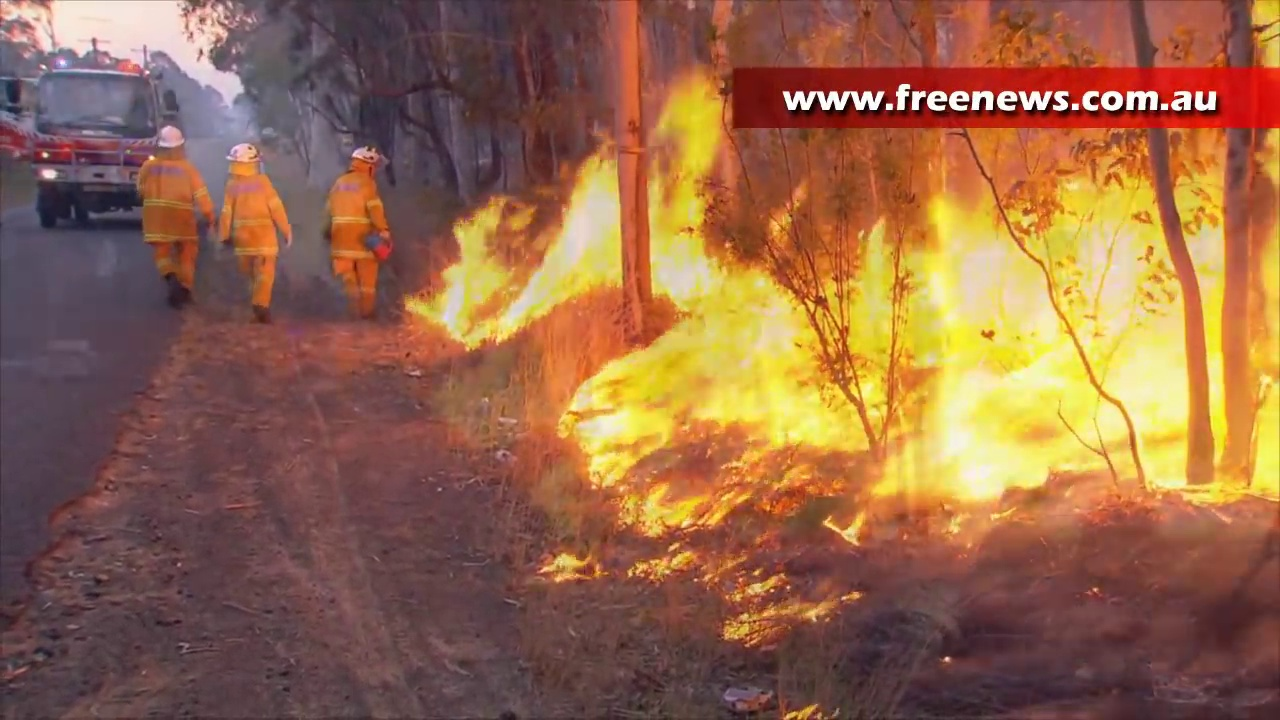fire: (563, 174, 1280, 533), (429, 148, 623, 342), (638, 546, 840, 645), (647, 73, 720, 229), (544, 555, 596, 580)
